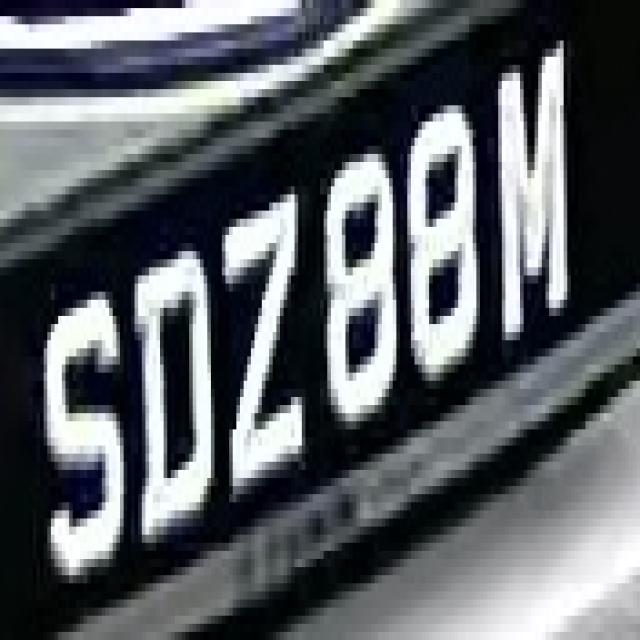8: (309, 138, 407, 454), (393, 73, 487, 397)
D: (120, 235, 222, 559)
M: (484, 41, 578, 357)
S: (22, 284, 138, 575)
Z: (208, 195, 328, 494)
